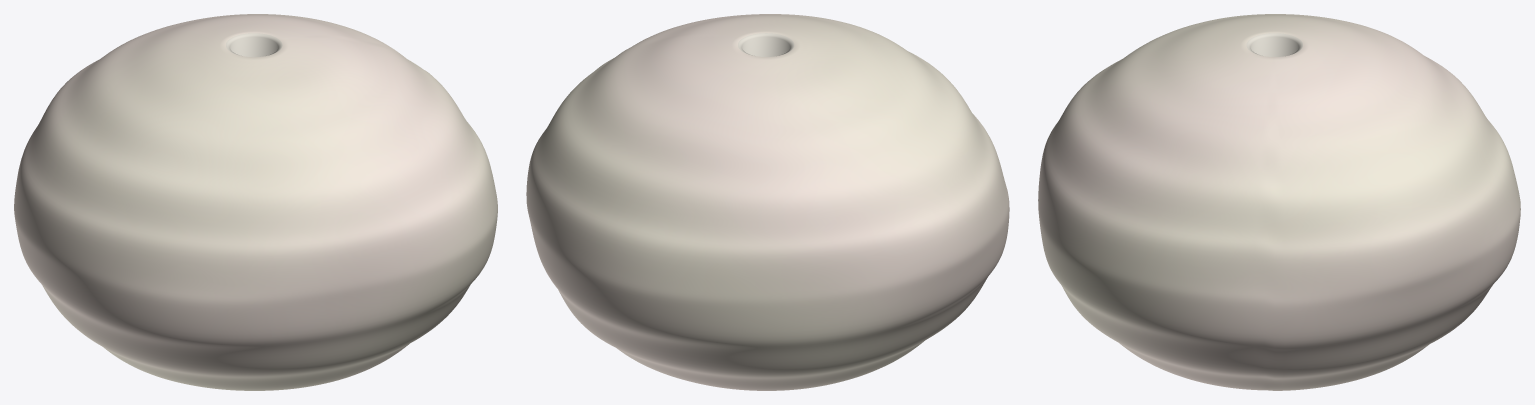
The model's file is pearl-ref-04.glb.
3 renders of one model, left to right at view 1: azimuth 30°, elevation 25°; view 2: azimuth 150°, elevation 25°; view 3: azimuth 270°, elevation 25°, orthographic.
Visible parts, largest first — view 1: pearl-ref-04; view 2: pearl-ref-04; view 3: pearl-ref-04.
Part boxes in pixels (x1,y1,x2,y2): pearl-ref-04: (14, 14, 497, 390); pearl-ref-04: (526, 14, 1009, 390); pearl-ref-04: (1038, 14, 1520, 390).
Bounding box in the file's own units: 0.00802 × 0.00576 × 0.00801.
2 materials, 1 textured.
